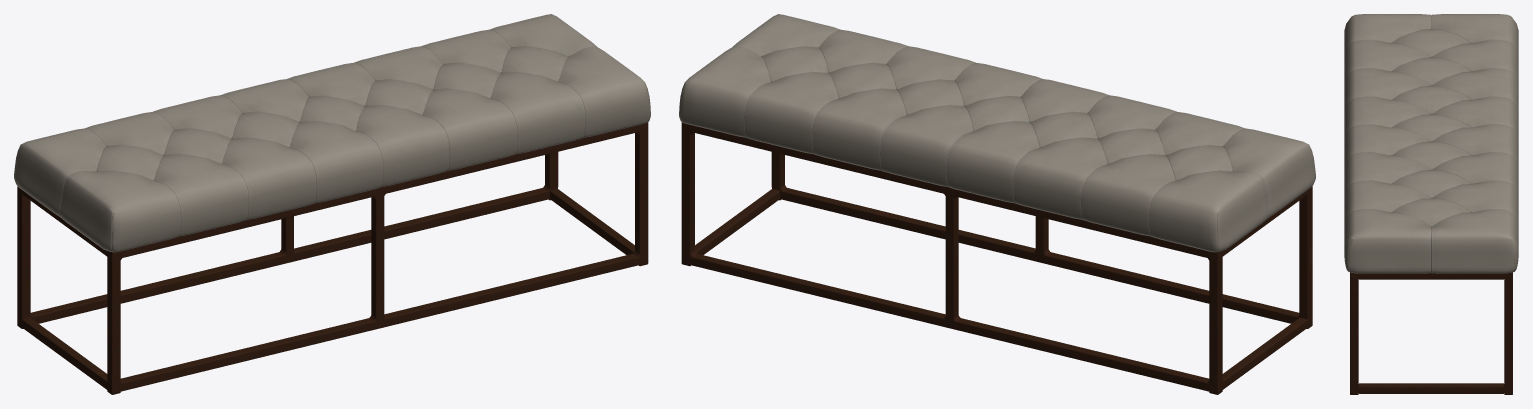
The model's file is abo-B07B4SC9RP.glb.
3 views of the same model, side by side, from view 1: azimuth 30°, elevation 25°; view 2: azimuth 150°, elevation 25°; view 3: azimuth 270°, elevation 25° (orthographic). The views are drawn at different scales.
Size of the model in its own units: 1.49 by 0.488 by 0.479.
1 material, 1 textured.
